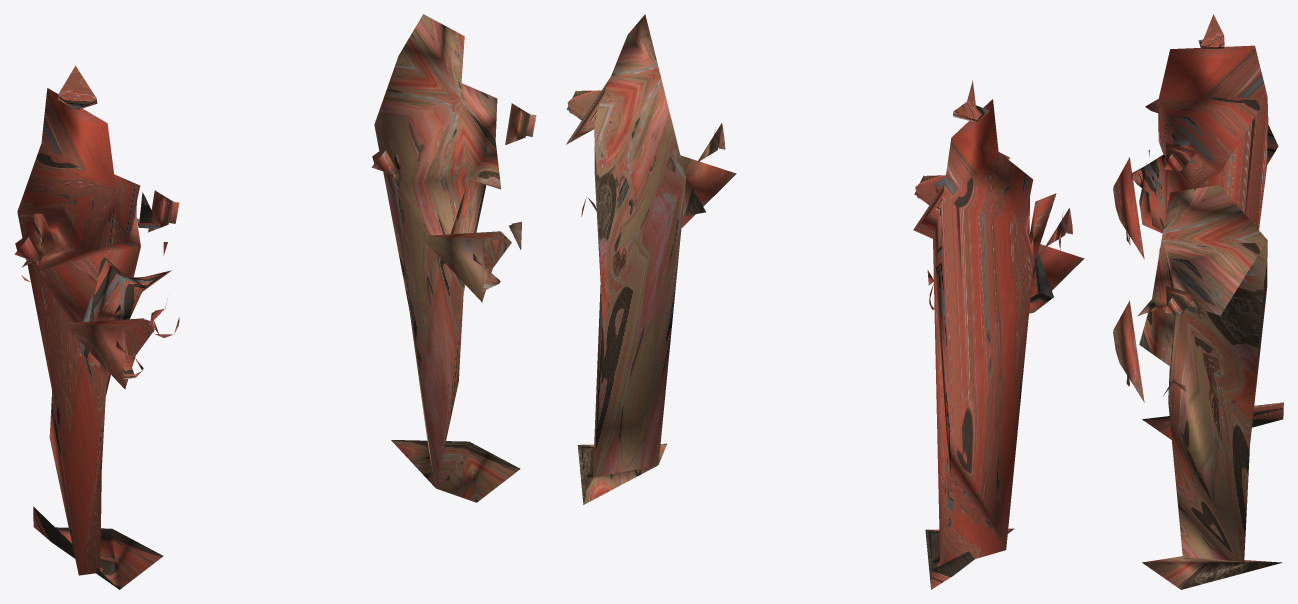
The model's file is fire_hydrant_opt.gltf.
The picture shows the model from 3 angles, left to right: view 1: azimuth 30°, elevation 25°; view 2: azimuth 150°, elevation 25°; view 3: azimuth 270°, elevation 25°; orthographic projection. The views are drawn at different scales.
Visible parts, largest first — view 1: fire_hydrant, fire_hydrant_aged, fire_hydrant_cap_01_aged, fire_hydrant_cap_01, fire_hydrant_cap_02_aged, fire_hydrant_cap_02, fire_hydrant_chain; view 2: fire_hydrant, fire_hydrant_aged, fire_hydrant_cap_01_aged, fire_hydrant_cap_01; view 3: fire_hydrant_aged, fire_hydrant, fire_hydrant_cap_01_aged, fire_hydrant_cap_01, fire_hydrant_cap_02, fire_hydrant_cap_02_aged.
Part boxes in pixels (x1,y1,x2,y2): fire_hydrant: (17, 66, 171, 589); fire_hydrant_aged: (374, 14, 520, 502); fire_hydrant_cap_01_aged: (420, 231, 511, 302); fire_hydrant_cap_01: (63, 318, 154, 389); fire_hydrant_cap_02_aged: (505, 103, 536, 145); fire_hydrant_cap_02: (148, 190, 179, 232); fire_hydrant_chain: (21, 241, 179, 379); fire_hydrant: (913, 80, 1056, 589); fire_hydrant_aged: (566, 14, 705, 504); fire_hydrant_cap_01_aged: (680, 155, 736, 227); fire_hydrant_cap_01: (1030, 244, 1084, 297); fire_hydrant_aged: (1137, 185, 1282, 589); fire_hydrant: (1129, 14, 1283, 439); fire_hydrant_cap_01_aged: (1113, 300, 1144, 402); fire_hydrant_cap_01: (1113, 157, 1144, 259); fire_hydrant_cap_02: (1165, 142, 1196, 171); fire_hydrant_cap_02_aged: (1165, 286, 1196, 314).
Bounding box in the file's own units: 0.8728 × 0.7914 × 0.3024.
Materials: 2 (2 with a texture image).
